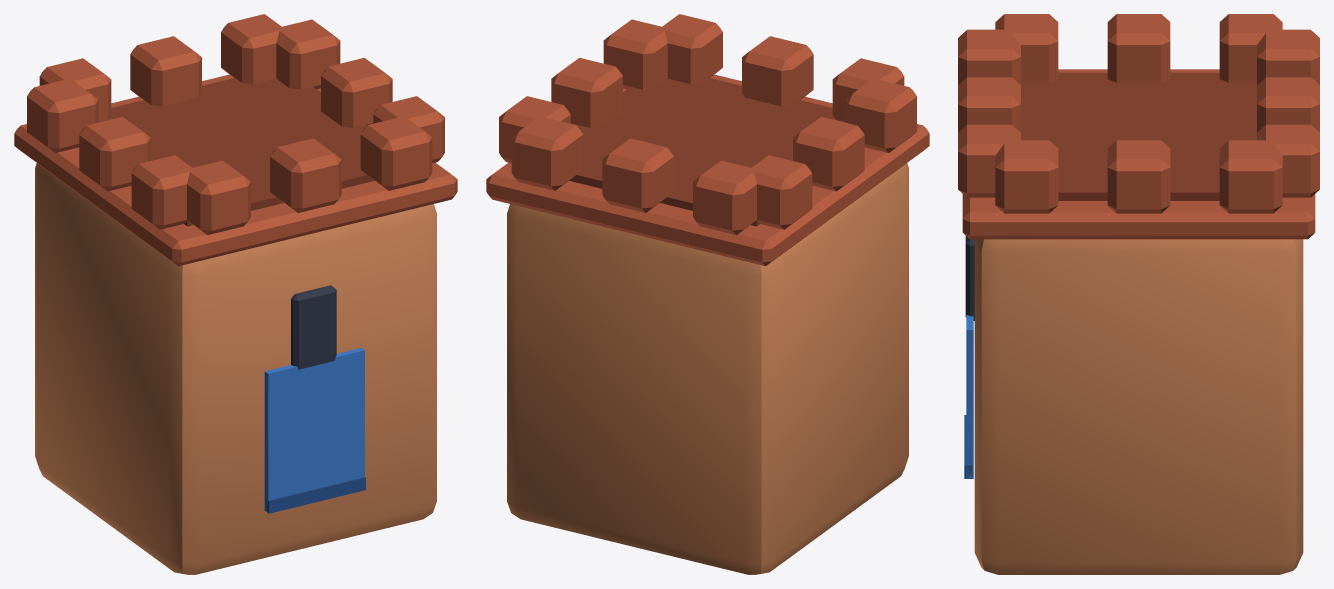
Rendered from Tower_Canyon.fbx.
3 renders of one model, left to right at view 1: azimuth 30°, elevation 25°; view 2: azimuth 150°, elevation 25°; view 3: azimuth 270°, elevation 25°, orthographic. The views are drawn at different scales.
Parts seen in each view (by area): view 1: Tower_Canyon; view 2: Tower_Canyon; view 3: Tower_Canyon.
Boxes of the visible parts, bbox=[...] form: Tower_Canyon: bbox=[14, 14, 457, 574]; Tower_Canyon: bbox=[486, 14, 929, 574]; Tower_Canyon: bbox=[958, 14, 1319, 574].
Bounding box in the file's own units: 2.42 × 3.16 × 2.42.
